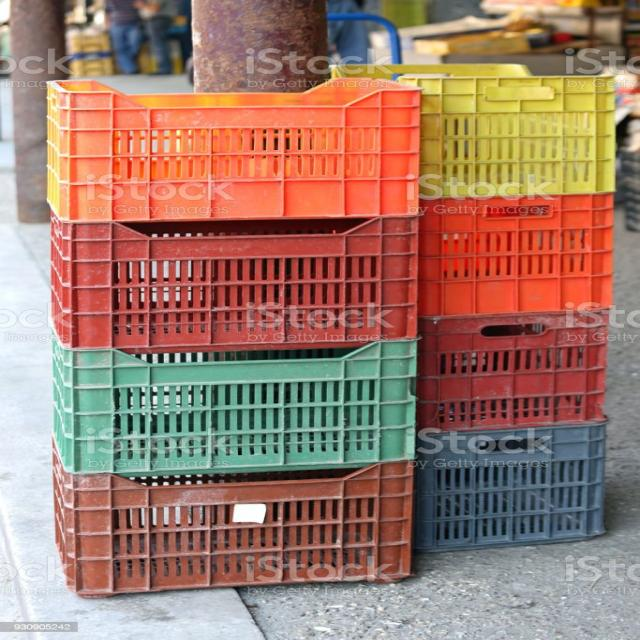plastic: (44, 77, 424, 596), (402, 61, 616, 550)
